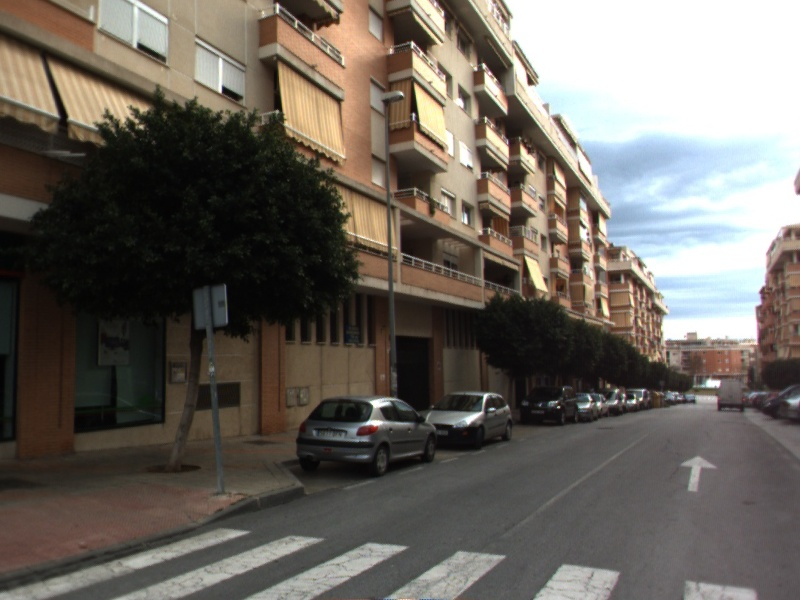STRAIGHT: (678, 453, 720, 493)
